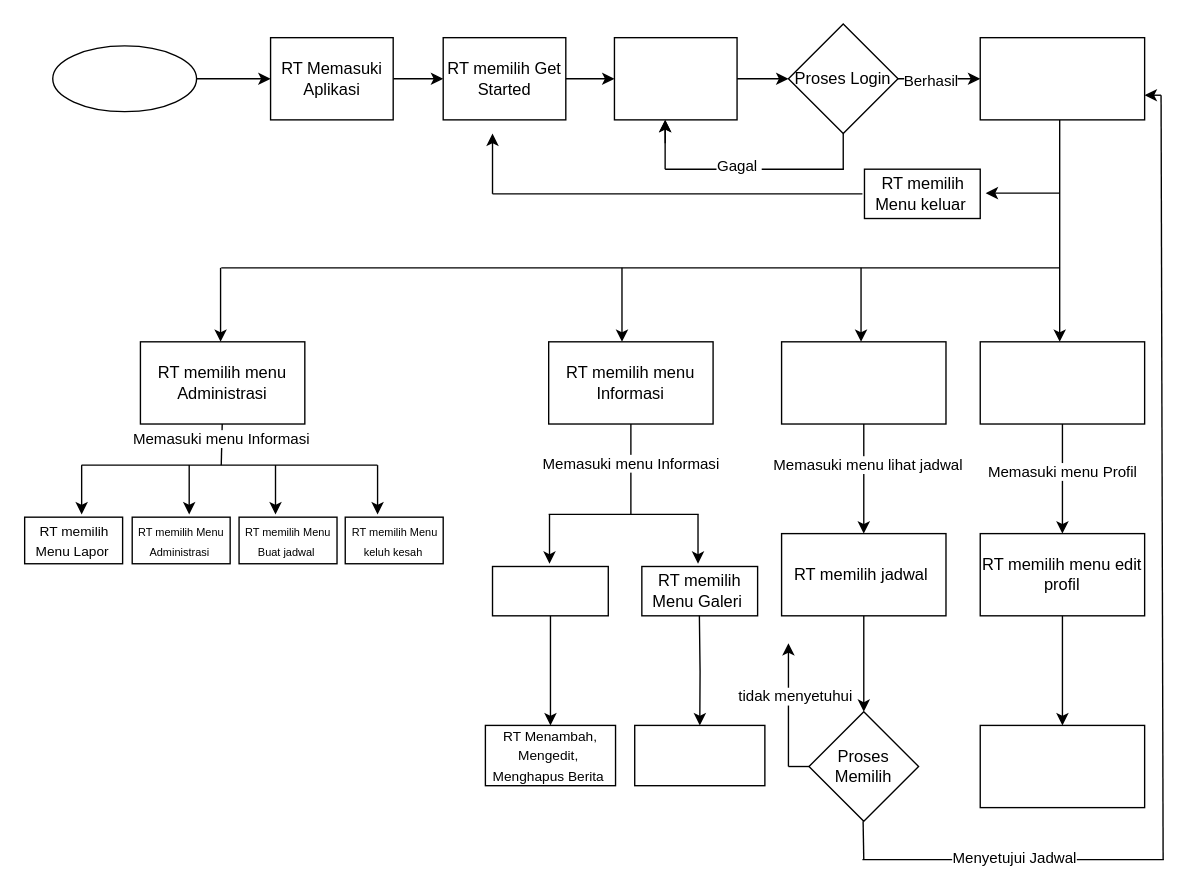
This 1196x891 diagram has some shape labels left out. Each missing label, with the centre of its shape:
Mulai: the point at 124,78
RT di alihkan Halam Utama: the point at 1062,78
RT Login: the point at 675,78
RT memilih Menu Berita: the point at 549,590
RT memilih menu Lihat Jadwal: the point at 863,382
RT memilih menu Profil: the point at 1062,382
RT Menambah , Mengedit, Menghapus Galeri: the point at 699,755
RT selesai mengedit profil: the point at 1062,766
